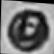correct: (1, 2, 46, 52)
